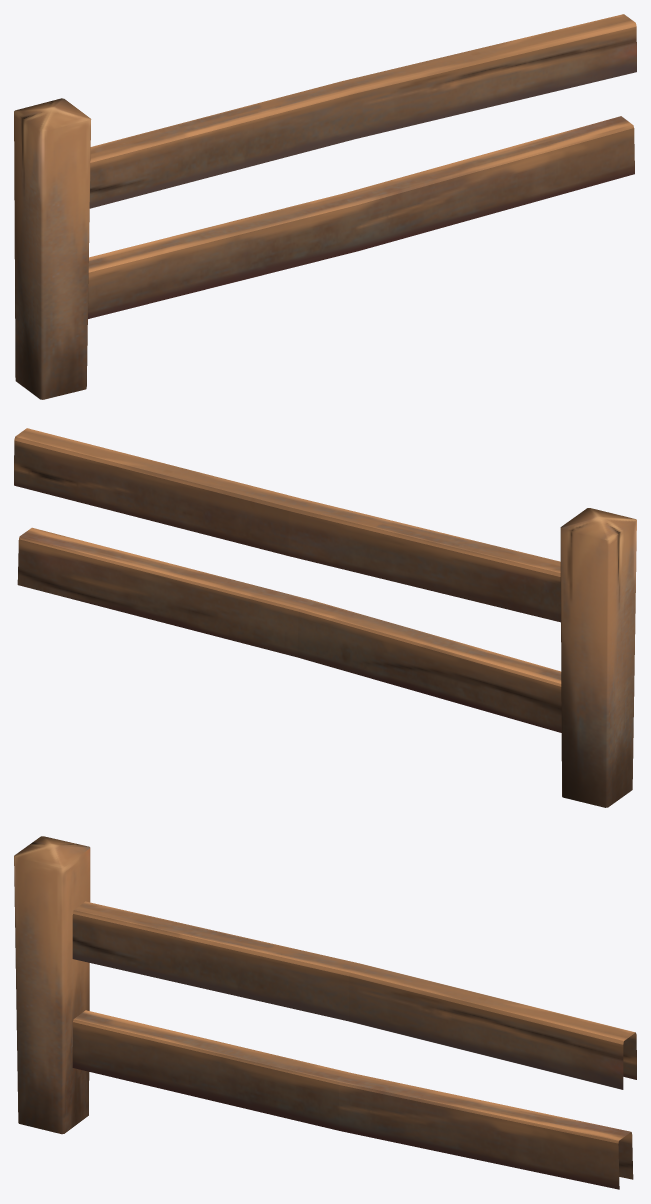
Rendered from FenceInline_A.gltf.
3 renders of one model, top to bottom at view 1: azimuth 30°, elevation 25°; view 2: azimuth 150°, elevation 25°; view 3: azimuth 330°, elevation 25°, orthographic.
Visible parts, largest first — view 1: Cube.010; view 2: Cube.010; view 3: Cube.010.
Part boxes in pixels (x1,y1,x2,y2): Cube.010: [14, 14, 636, 399]; Cube.010: [14, 428, 636, 807]; Cube.010: [14, 836, 636, 1189].
Size of what is drawn, in the model's own units: 2.45 by 1.07 by 0.2055.
1 material, 1 textured.
